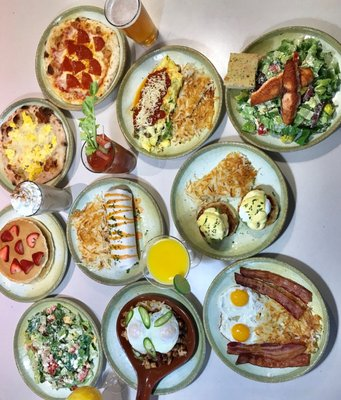pizza: (143, 235, 191, 286)
sushi: (202, 252, 334, 384), (225, 26, 341, 162), (170, 143, 293, 260), (101, 282, 209, 399), (116, 45, 225, 158), (66, 175, 169, 285), (13, 296, 105, 400), (1, 97, 76, 192), (0, 214, 69, 301)
